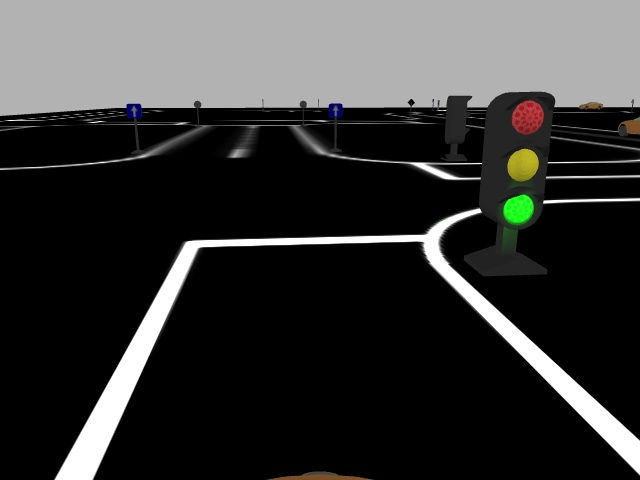green_light: (477, 89, 557, 232)
oneway: (327, 102, 344, 120), (125, 103, 143, 119)
